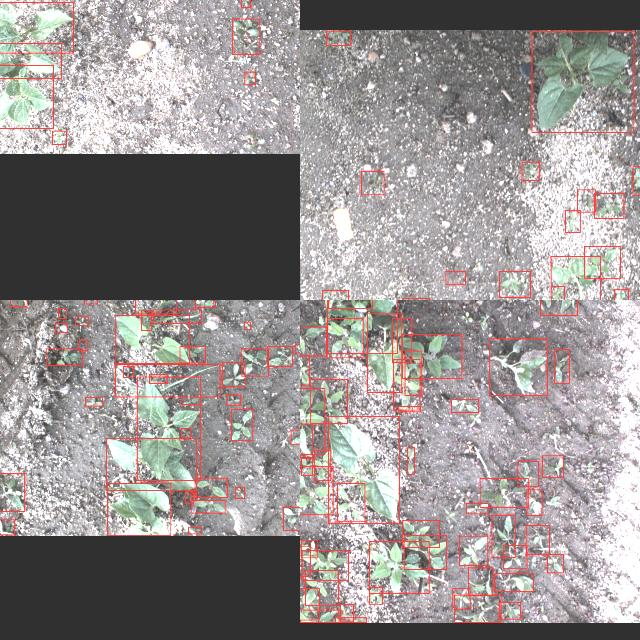crop: (531, 30, 633, 132), (328, 416, 398, 524), (136, 377, 200, 481), (105, 439, 195, 491), (0, 2, 73, 53), (115, 315, 189, 363), (0, 65, 53, 128), (106, 483, 170, 535), (366, 314, 402, 392), (550, 256, 599, 300), (0, 43, 60, 78), (134, 300, 175, 313), (328, 300, 372, 308)
weed: (327, 300, 397, 352), (114, 364, 220, 398), (489, 338, 547, 396), (369, 541, 429, 593), (401, 334, 461, 378), (309, 378, 346, 424), (300, 388, 324, 454), (300, 467, 332, 515), (479, 478, 528, 508), (326, 318, 362, 358), (404, 535, 446, 569), (301, 551, 347, 581), (393, 359, 419, 409), (454, 595, 500, 623), (304, 570, 338, 606), (584, 247, 620, 279), (336, 483, 364, 521), (402, 520, 438, 548), (492, 515, 514, 557), (0, 474, 24, 512), (458, 536, 488, 566), (232, 20, 258, 54), (391, 318, 411, 362), (498, 271, 530, 297), (404, 350, 422, 396), (240, 348, 268, 376), (300, 326, 325, 355), (593, 194, 623, 218), (525, 525, 549, 555), (493, 574, 532, 592), (153, 309, 201, 323), (468, 568, 492, 596), (230, 410, 252, 440), (194, 478, 226, 498), (46, 349, 82, 365), (300, 589, 318, 620), (361, 171, 384, 195), (222, 362, 244, 386), (504, 545, 526, 569), (266, 346, 292, 366), (539, 300, 576, 314), (314, 450, 331, 480), (300, 609, 338, 622), (517, 462, 537, 486), (554, 349, 568, 383), (576, 190, 596, 212), (542, 455, 562, 477), (192, 501, 224, 514), (526, 490, 542, 516), (282, 507, 300, 530), (300, 423, 312, 457), (498, 602, 520, 620), (326, 30, 350, 46), (180, 347, 204, 363), (452, 589, 470, 609), (564, 211, 580, 233), (450, 400, 478, 412), (547, 554, 563, 574), (522, 162, 538, 180), (300, 540, 316, 558), (300, 546, 309, 576), (631, 166, 640, 195), (445, 272, 465, 284), (300, 355, 308, 385), (322, 291, 348, 300), (368, 588, 382, 604), (465, 504, 487, 514), (340, 604, 352, 622), (300, 458, 312, 476), (406, 448, 414, 474), (141, 310, 151, 330), (52, 131, 66, 145), (550, 286, 564, 300), (0, 520, 13, 535), (148, 374, 166, 384), (613, 289, 628, 300), (85, 398, 102, 407), (181, 397, 199, 405), (226, 395, 240, 405), (290, 430, 300, 444), (194, 300, 214, 307), (243, 72, 254, 84), (398, 406, 420, 412), (334, 618, 366, 622), (75, 316, 87, 326), (54, 323, 66, 333), (123, 367, 133, 378), (180, 428, 190, 438), (78, 340, 88, 350), (185, 492, 193, 504), (10, 300, 26, 306), (234, 488, 243, 498), (240, 0, 250, 8), (57, 308, 65, 318), (188, 528, 200, 534), (294, 343, 300, 352), (244, 321, 250, 329), (190, 493, 196, 501), (83, 300, 96, 303)
